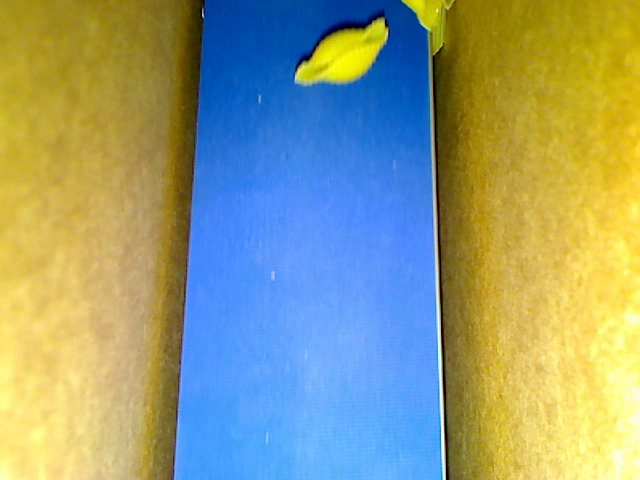penne: (428, 1, 444, 56)
shell: (295, 16, 388, 86), (401, 1, 443, 37)
